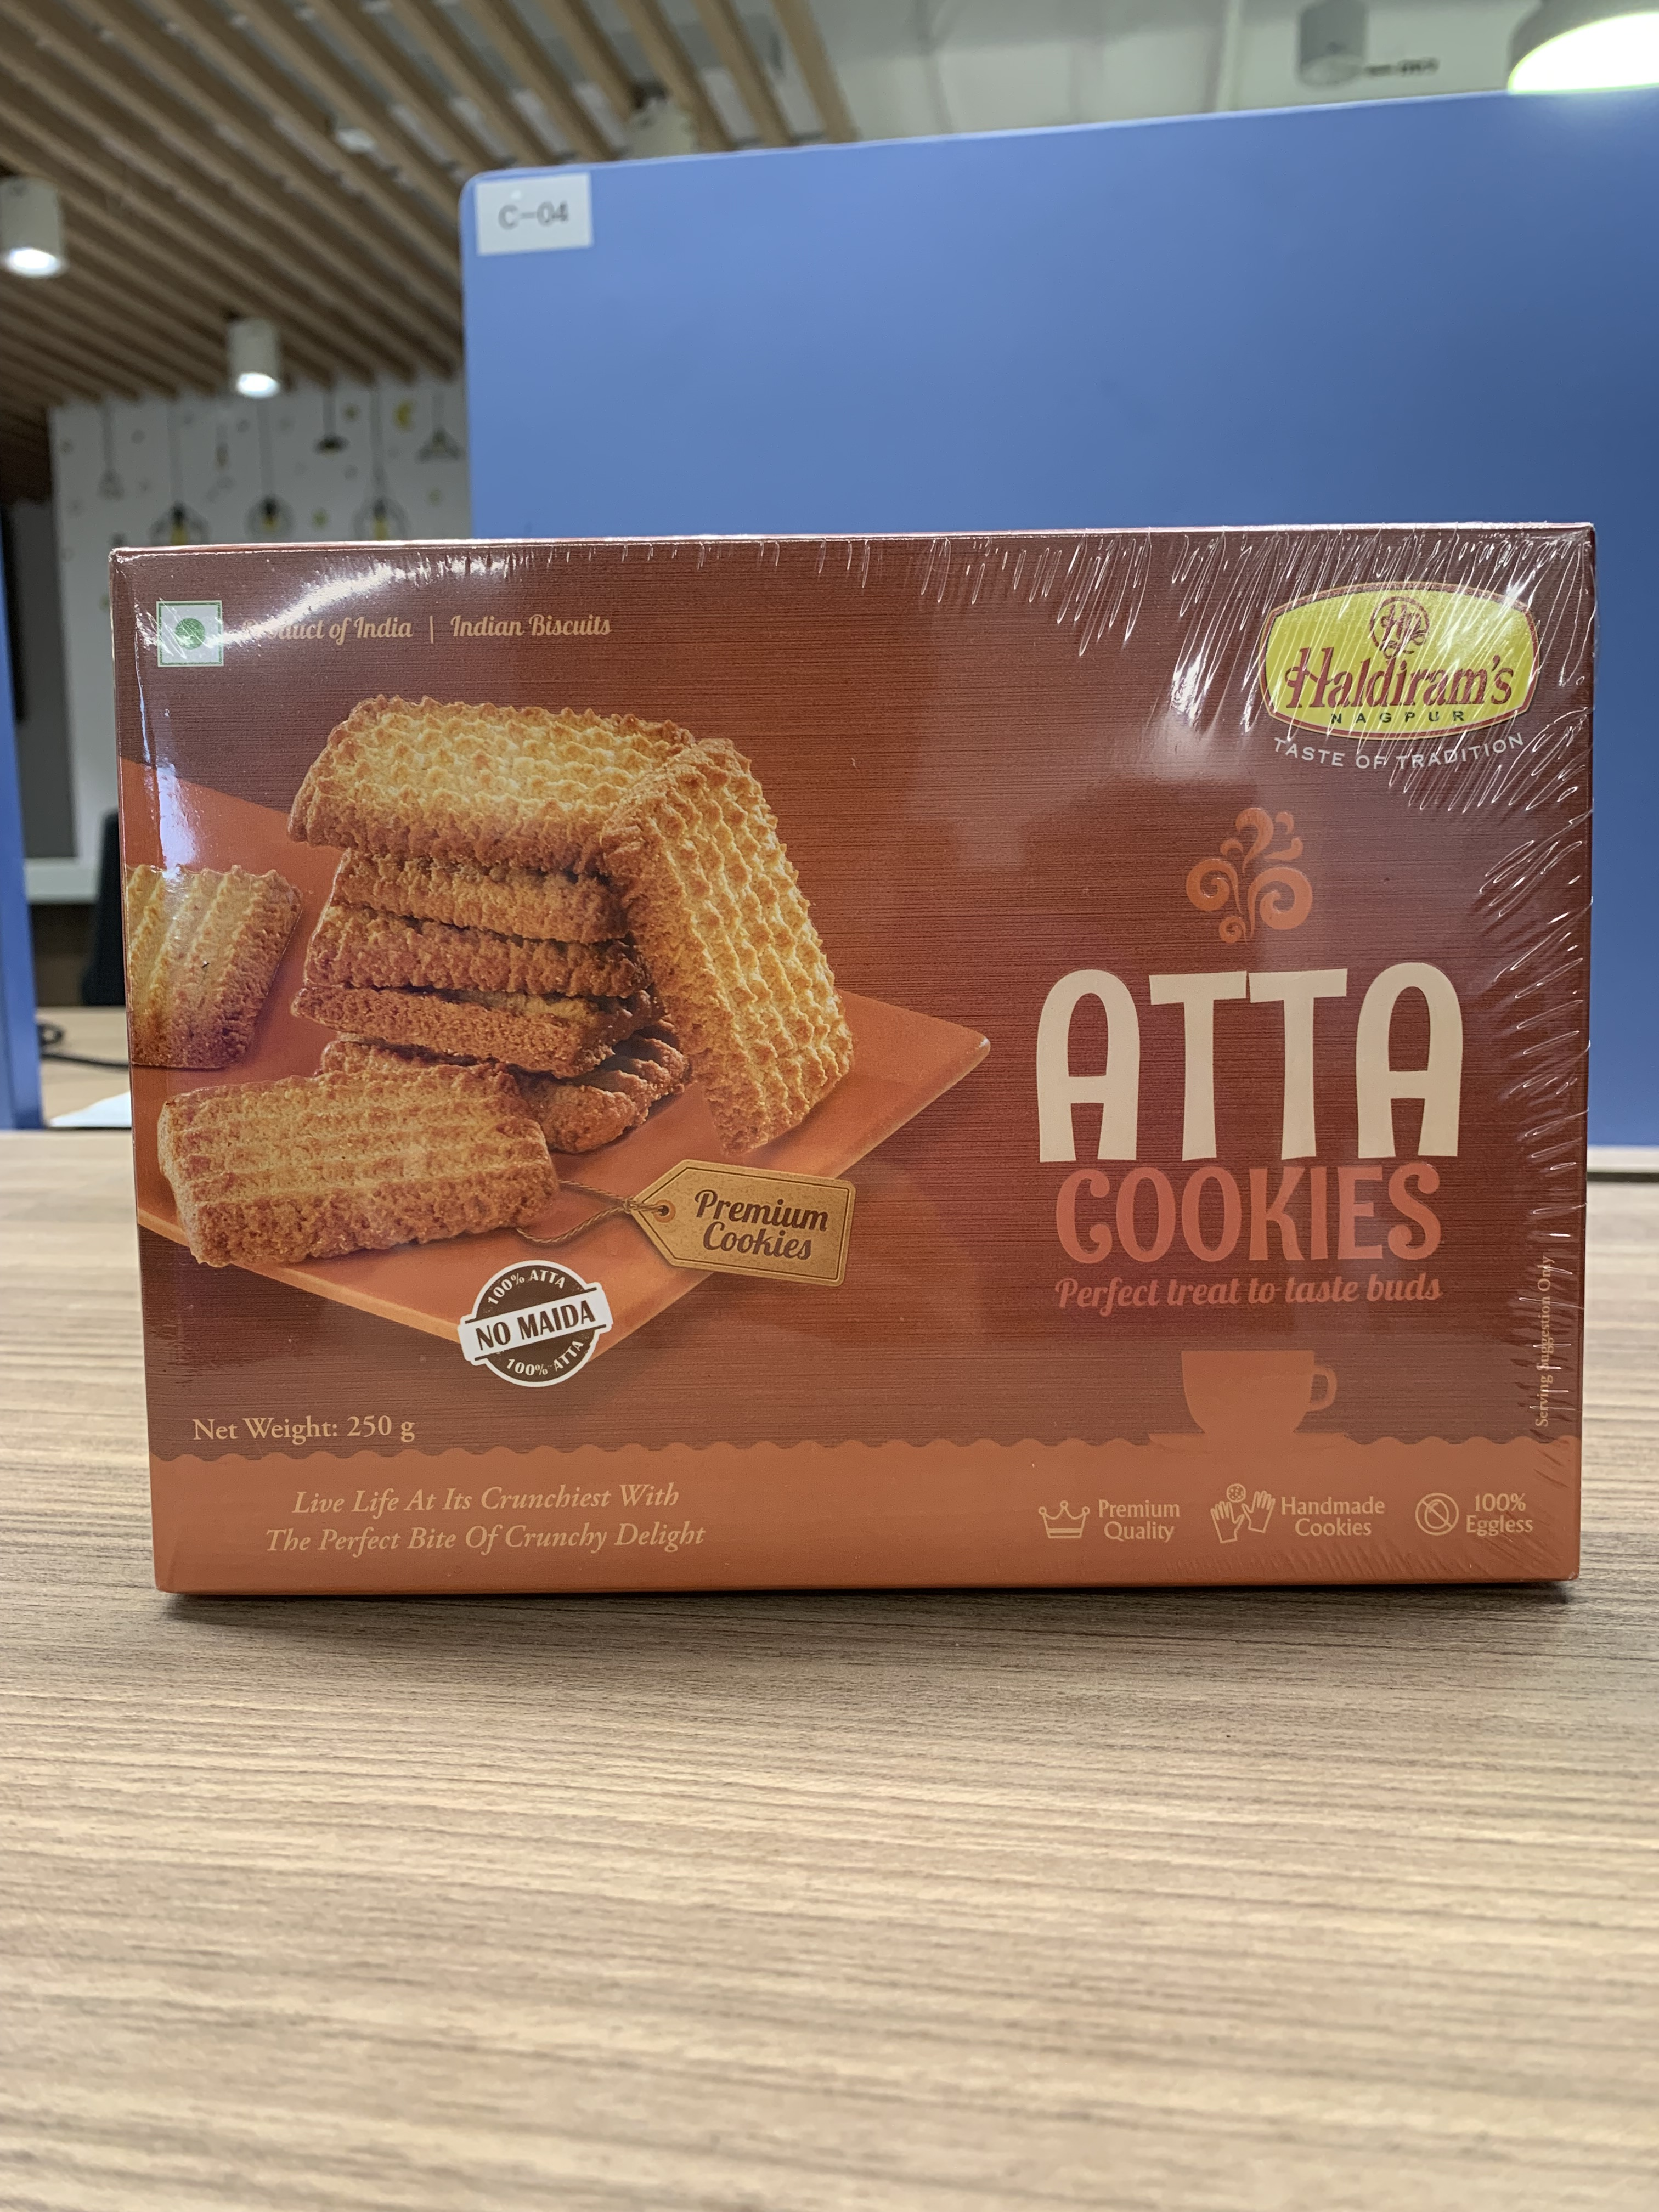cookies: (103, 507, 1607, 1642)
